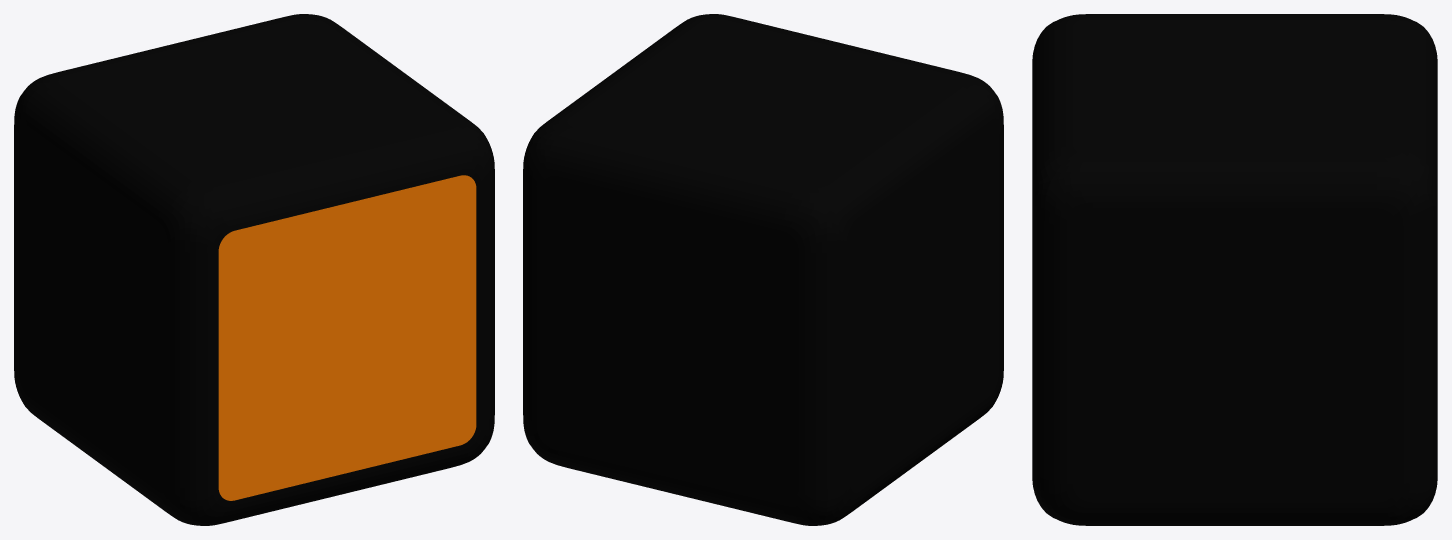
3 renders of one model, left to right at view 1: azimuth 30°, elevation 25°; view 2: azimuth 150°, elevation 25°; view 3: azimuth 270°, elevation 25°, orthographic. The views are drawn at different scales.
Parts seen in each view (by area): view 1: oy; view 2: oy; view 3: oy.
Boxes of the visible parts, left/top/right/bottom form: oy: left=14, top=14, right=494, bottom=525; oy: left=523, top=14, right=1003, bottom=525; oy: left=1032, top=14, right=1437, bottom=525.
Size of the model in its own units: 100 by 100 by 100.
